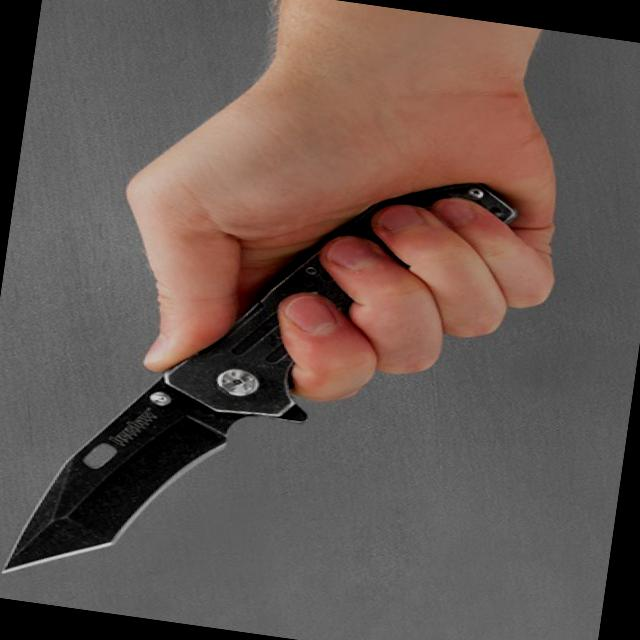knife: (0, 191, 422, 636)
